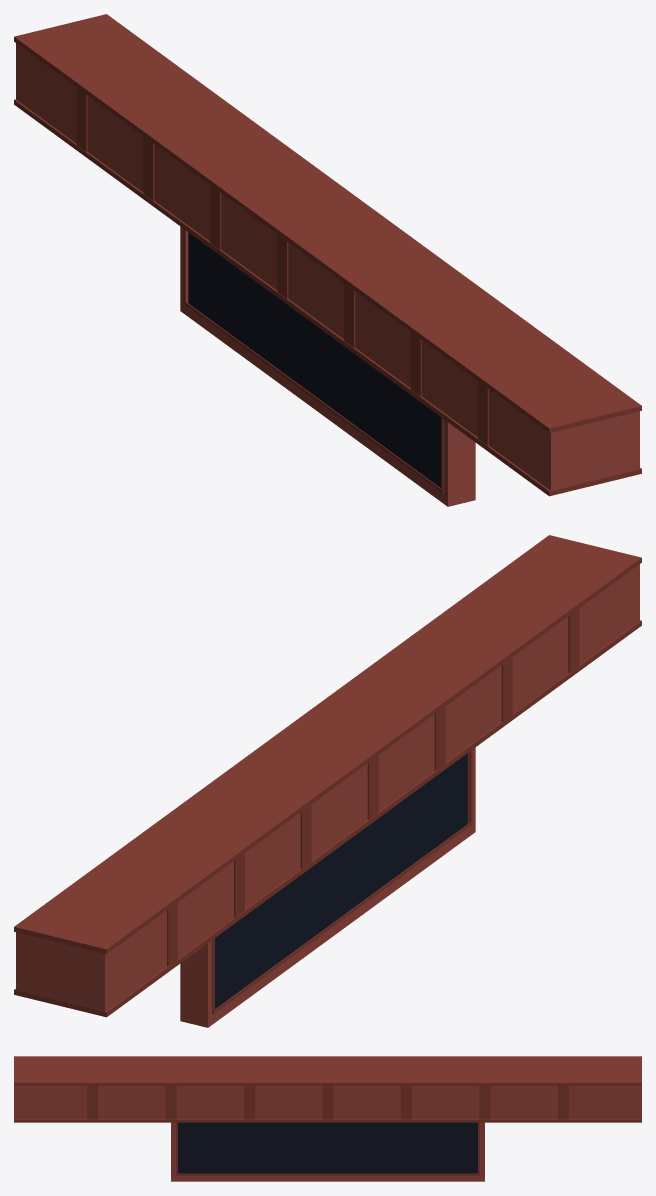
File: bridge_sign.glb
The picture shows the model from 3 angles, top to bottom: view 1: azimuth 30°, elevation 25°; view 2: azimuth 150°, elevation 25°; view 3: azimuth 270°, elevation 25°; orthographic projection. The views are drawn at different scales.
Parts seen in each view (by area): view 1: bridge_sign; view 2: bridge_sign; view 3: bridge_sign.
Boxes of the visible parts, x1=… form: bridge_sign: x1=14, y1=14, x2=641, y2=506; bridge_sign: x1=14, y1=535, x2=641, y2=1027; bridge_sign: x1=14, y1=1056, x2=641, y2=1181.
Size of the model in its own units: 2 by 3.8 by 20.
